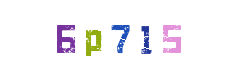1: (92, 0, 172, 80)
5: (115, 0, 195, 80)
6: (29, 0, 109, 80)
7: (83, 0, 163, 80)
P: (53, 0, 133, 80)
